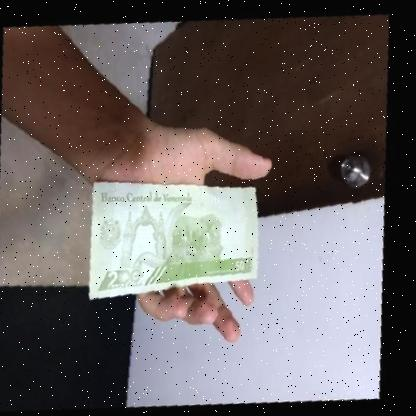fifty-back-vef: (77, 157, 274, 301)
